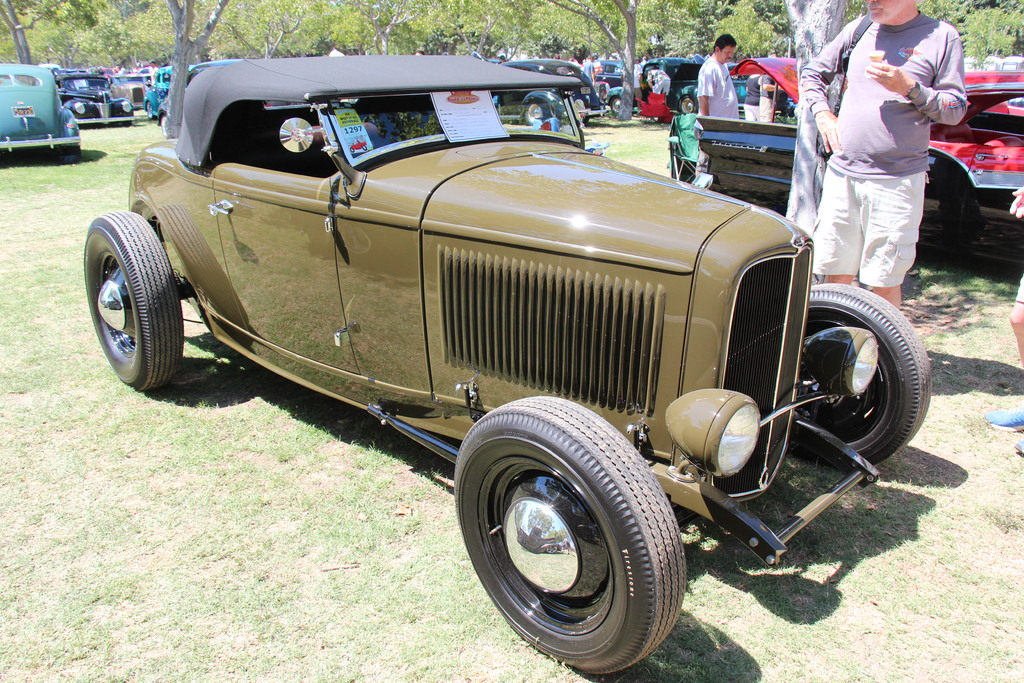Car: (80, 47, 933, 682), (526, 52, 1023, 263), (0, 56, 80, 162), (50, 67, 140, 137), (142, 60, 199, 126)
